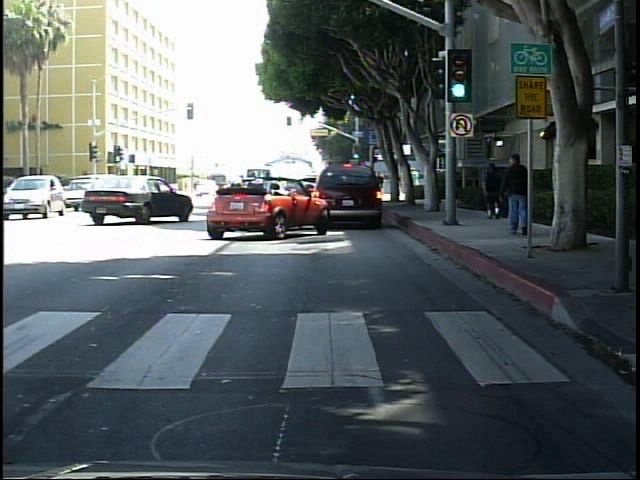person: (502, 144, 531, 237), (483, 157, 508, 222), (408, 165, 424, 201)
